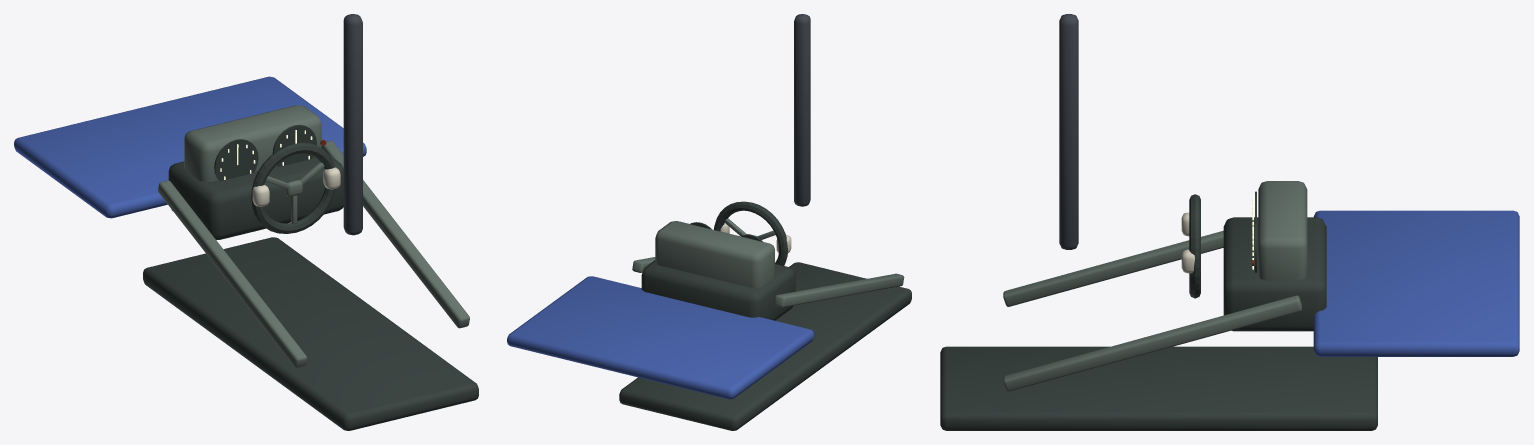
File: kart-cockpit.glb
3 renders of one model, left to right at view 1: azimuth 30°, elevation 25°; view 2: azimuth 150°, elevation 25°; view 3: azimuth 270°, elevation 25°, orthographic. The views are drawn at different scales.
Parts seen in each view (by area): view 1: kart_clay_charcoal.003, bonnet.001, kart_clay_trim.003, arm_left_fore.001, wheel_rim.001, kart_clay_trim.001, kart_clay_cream.003; view 2: bonnet.001, kart_clay_charcoal.003, kart_clay_trim.003, arm_left_fore.001, wheel_rim.001; view 3: kart_clay_charcoal.003, bonnet.001, kart_clay_trim.003, arm_left_fore.001, wheel_rim.001.
Part boxes in pixels (<box>): kart_clay_charcoal.003: <box>143,125,478,430</box>; bonnet.001: <box>14,76,366,218</box>; kart_clay_trim.003: <box>158,105,469,367</box>; arm_left_fore.001: <box>343,14,362,235</box>; wheel_rim.001: <box>251,143,335,233</box>; kart_clay_trim.001: <box>266,162,324,224</box>; kart_clay_cream.003: <box>252,167,340,206</box>; bonnet.001: <box>507,276,814,399</box>; kart_clay_charcoal.003: <box>619,222,911,430</box>; kart_clay_trim.003: <box>632,221,904,307</box>; arm_left_fore.001: <box>794,14,810,206</box>; wheel_rim.001: <box>714,201,787,265</box>; kart_clay_charcoal.003: <box>940,191,1377,430</box>; bonnet.001: <box>1313,210,1519,356</box>; kart_clay_trim.003: <box>1003,181,1307,391</box>; arm_left_fore.001: <box>1059,14,1078,249</box>; wheel_rim.001: <box>1189,194,1200,298</box>.
Size of the model in its own units: 1.25 by 1.64 by 2.25.
